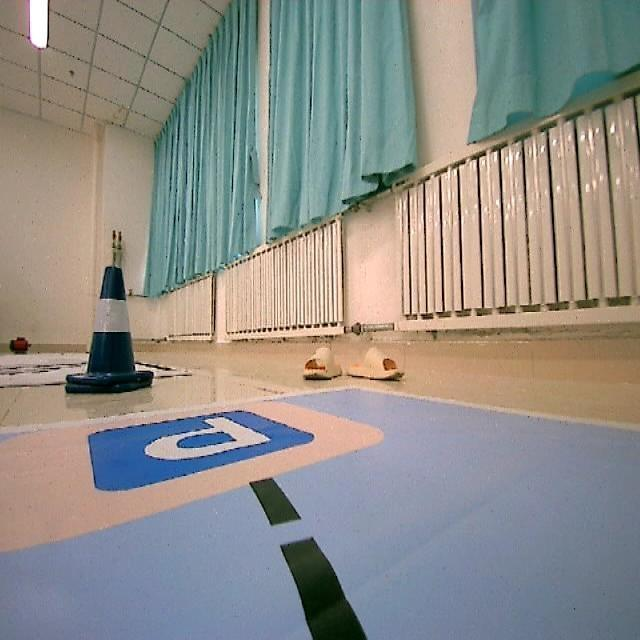obstacle: (54, 260, 161, 398)
